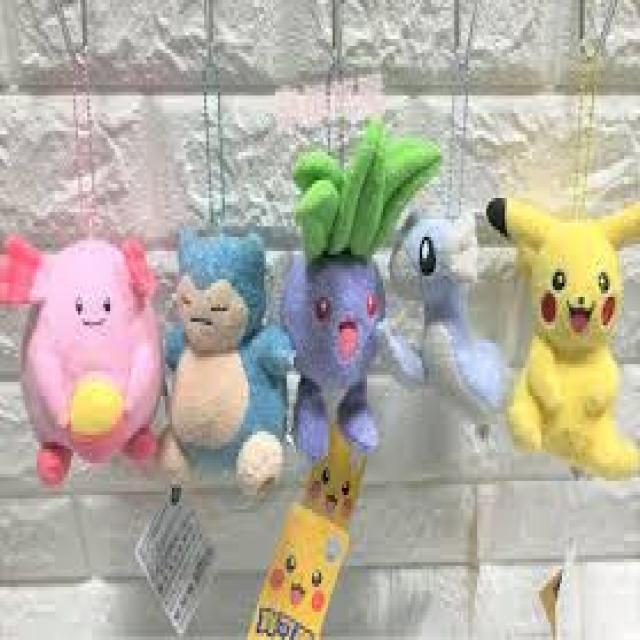Chansey: (22, 235, 161, 471)
Dratini: (399, 213, 504, 414)
Oddish: (286, 170, 390, 445)
Pikachu: (514, 211, 624, 464)
Snorlax: (165, 231, 281, 498)
